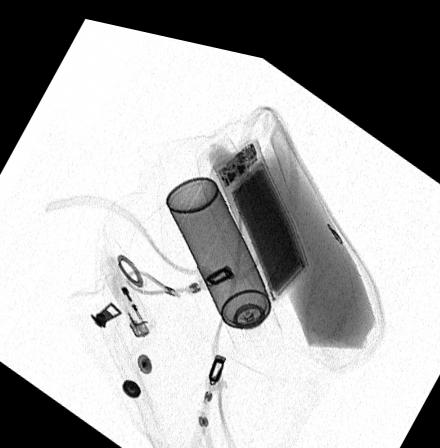Lighter: (97, 252, 153, 331)
Powerbank: (213, 126, 306, 290)
Sprayer: (164, 166, 282, 350)
